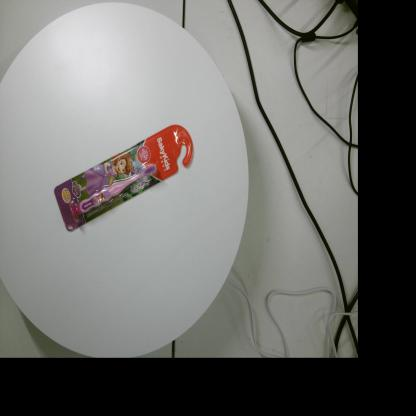Personal Hygiene: (54, 124, 193, 232)
